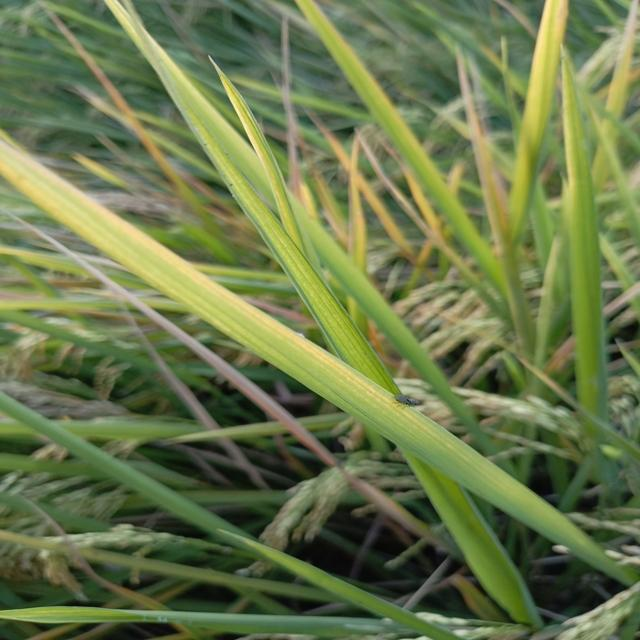Leaf scald: (384, 387, 441, 419)
